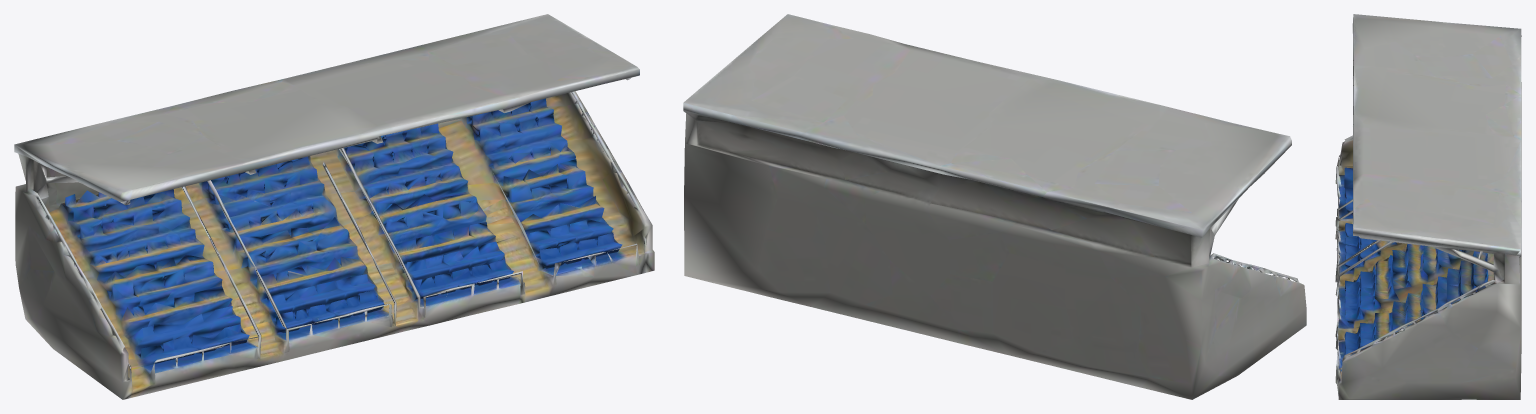
The model's file is stadium-stand.glb.
3 views of the same model, side by side, from view 1: azimuth 30°, elevation 25°; view 2: azimuth 150°, elevation 25°; view 3: azimuth 270°, elevation 25° (orthographic). The views are drawn at different scales.
Parts seen in each view (by area): view 1: stadium-stand; view 2: stadium-stand; view 3: stadium-stand.
Part boxes in pixels (x1,y1,x2,y2): stadium-stand: (14,14,654,399); stadium-stand: (683,14,1306,399); stadium-stand: (1335,14,1521,399).
Size of the model in its own units: 44.79 by 16 by 15.93.
1 material, 1 textured.
